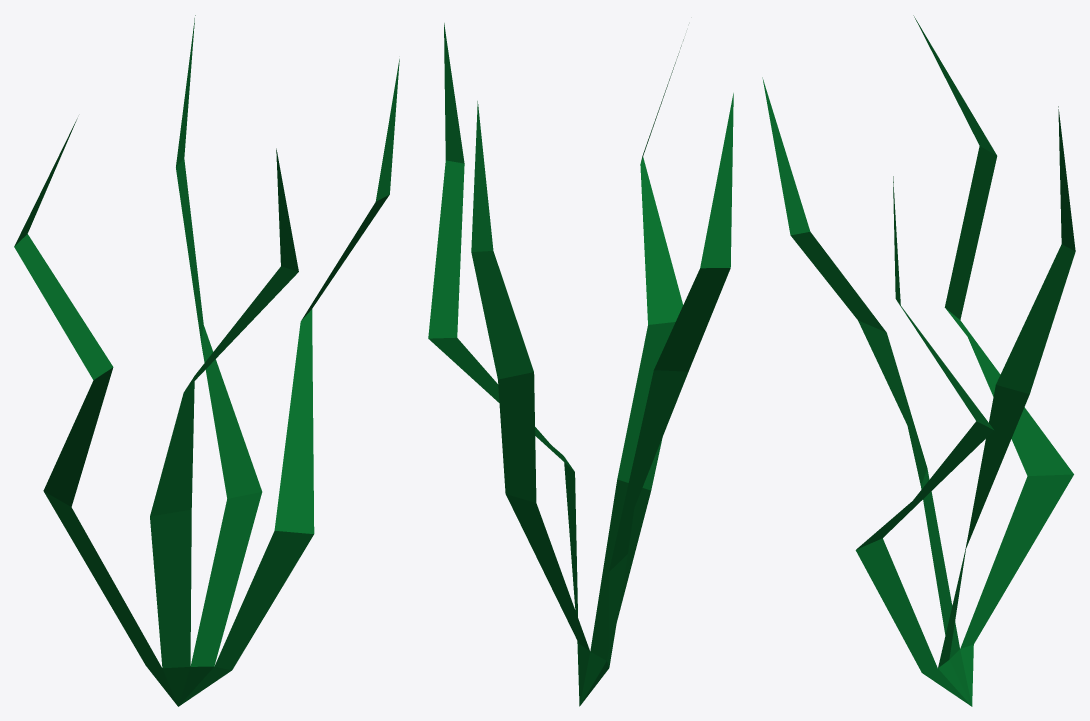
Rendered from alge.fbx.
The picture shows the model from 3 angles, left to right: view 1: azimuth 30°, elevation 25°; view 2: azimuth 150°, elevation 25°; view 3: azimuth 270°, elevation 25°; orthographic projection. The views are drawn at different scales.
Visible parts, largest first — view 1: Alge; view 2: Alge; view 3: Alge.
Part boxes in pixels (<box>): Alge: <box>14,15,399,706</box>; Alge: <box>428,23,733,706</box>; Alge: <box>762,15,1075,706</box>.
Size of the model in its own units: 0.3584 by 0.6487 by 0.2918.
